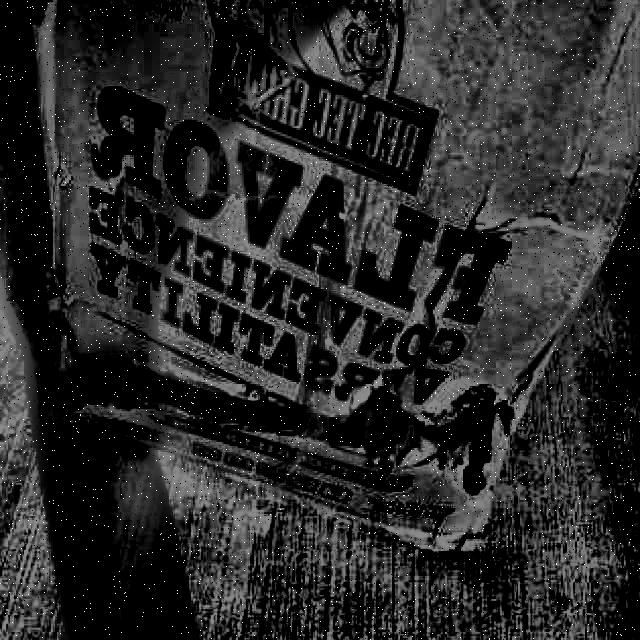box: (18, 0, 640, 580)
hole: (68, 351, 512, 449)
